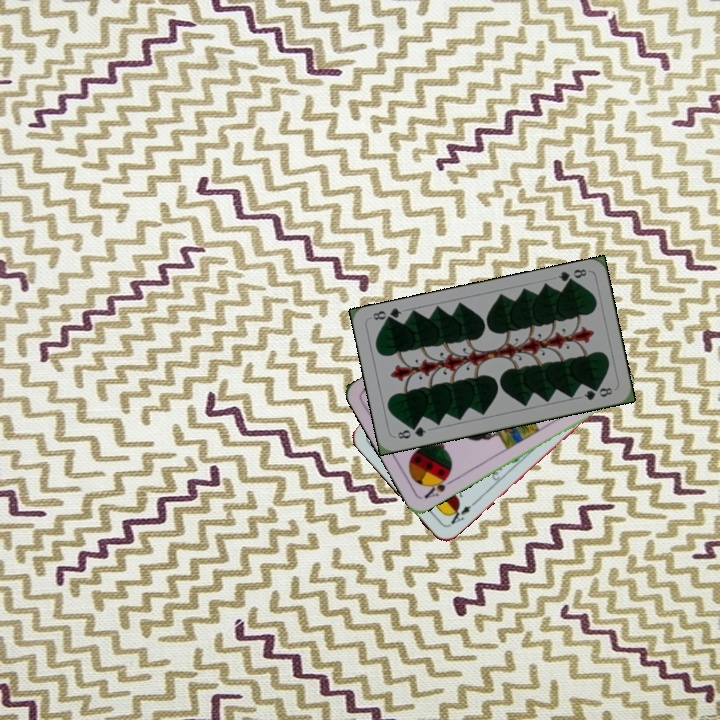EA: (444, 497, 478, 529)
G8: (554, 265, 589, 287), (393, 422, 429, 441)
SA: (420, 471, 456, 502)
